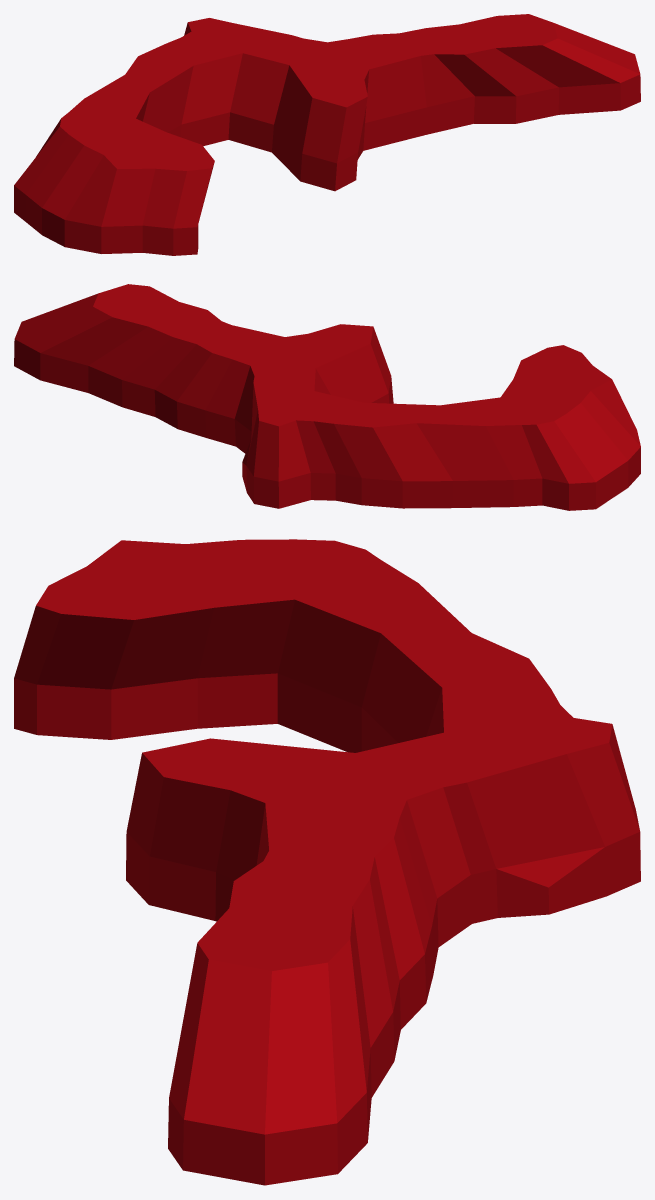
The model's file is RedObject3.fbx.
3 views of the same model, one above another, from view 1: azimuth 30°, elevation 25°; view 2: azimuth 150°, elevation 25°; view 3: azimuth 270°, elevation 25° (orthographic). The views are drawn at different scales.
Parts seen in each view (by area): view 1: RedObject3; view 2: RedObject3; view 3: RedObject3.
Boxes of the visible parts, box(x1,y1,x2,y2) form: RedObject3: box(14, 14, 640, 255); RedObject3: box(14, 284, 640, 510); RedObject3: box(14, 539, 640, 1185).
Size of the model in its own units: 12.36 by 1.5 by 6.02.
